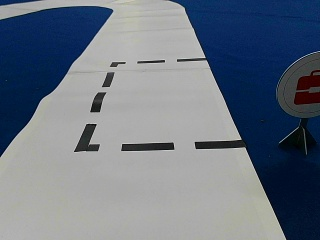company: (276, 52, 319, 117)
